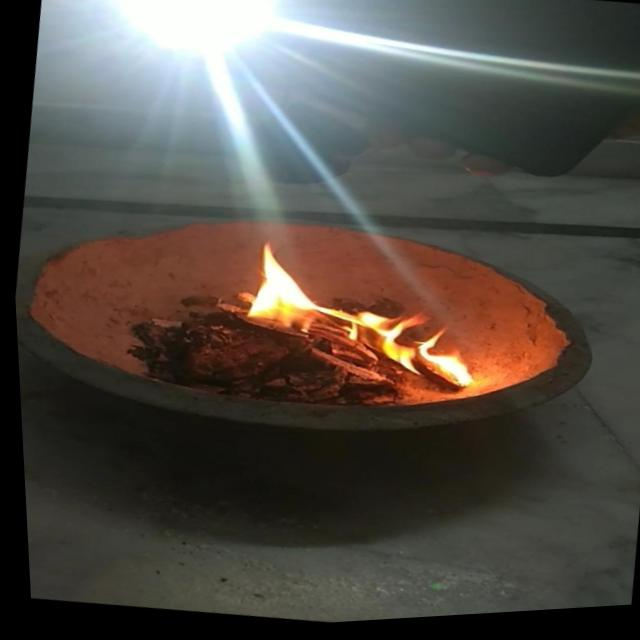fire: (225, 232, 487, 409)
